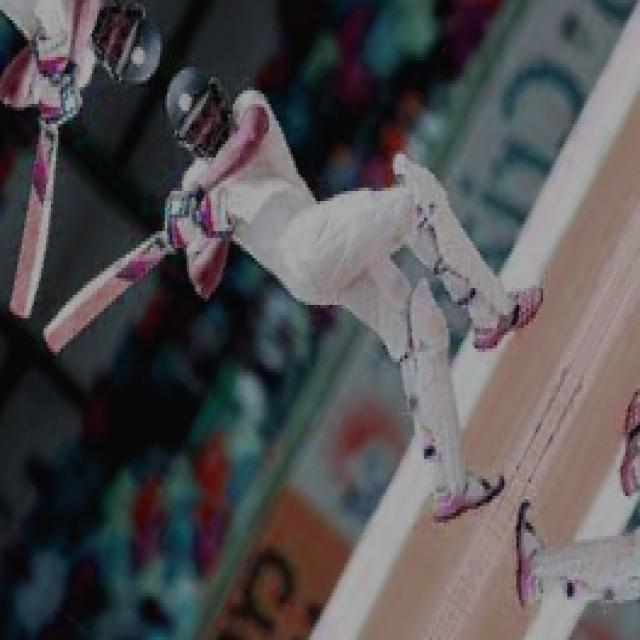toe: (32, 320, 74, 362)
